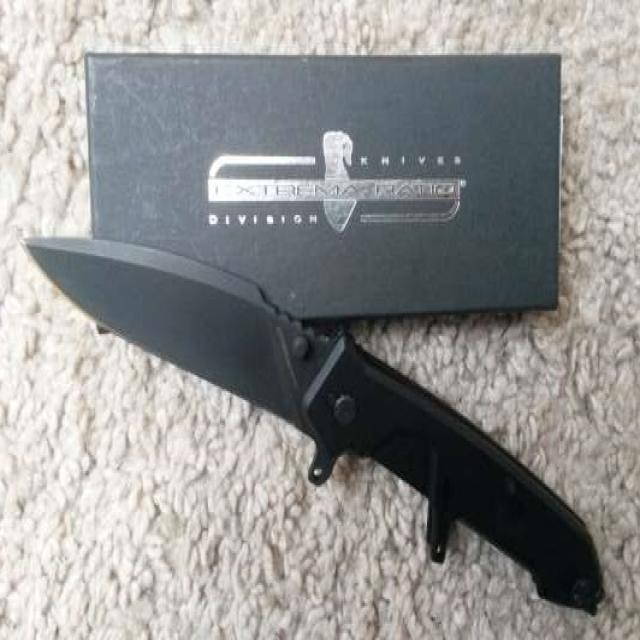knife: (16, 226, 615, 618)
